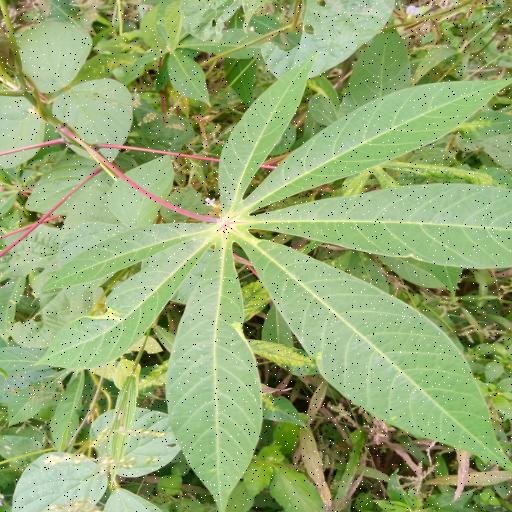Cassava_Healthy: (28, 58, 512, 503)
